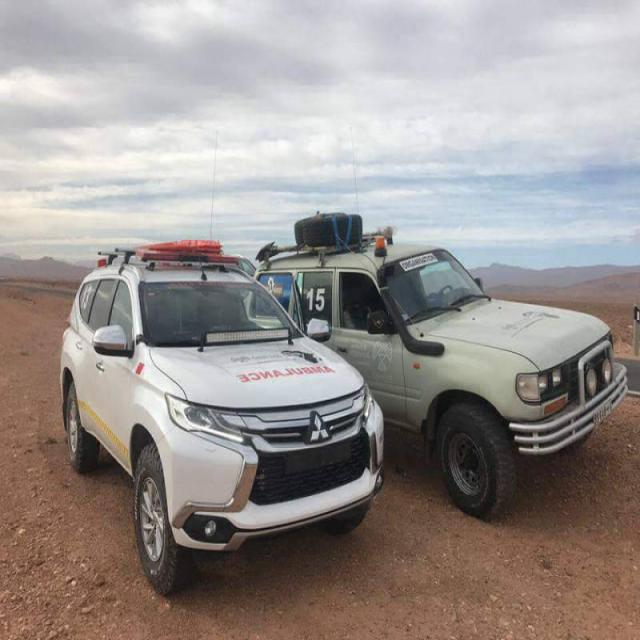ambulance: (58, 233, 388, 590)
